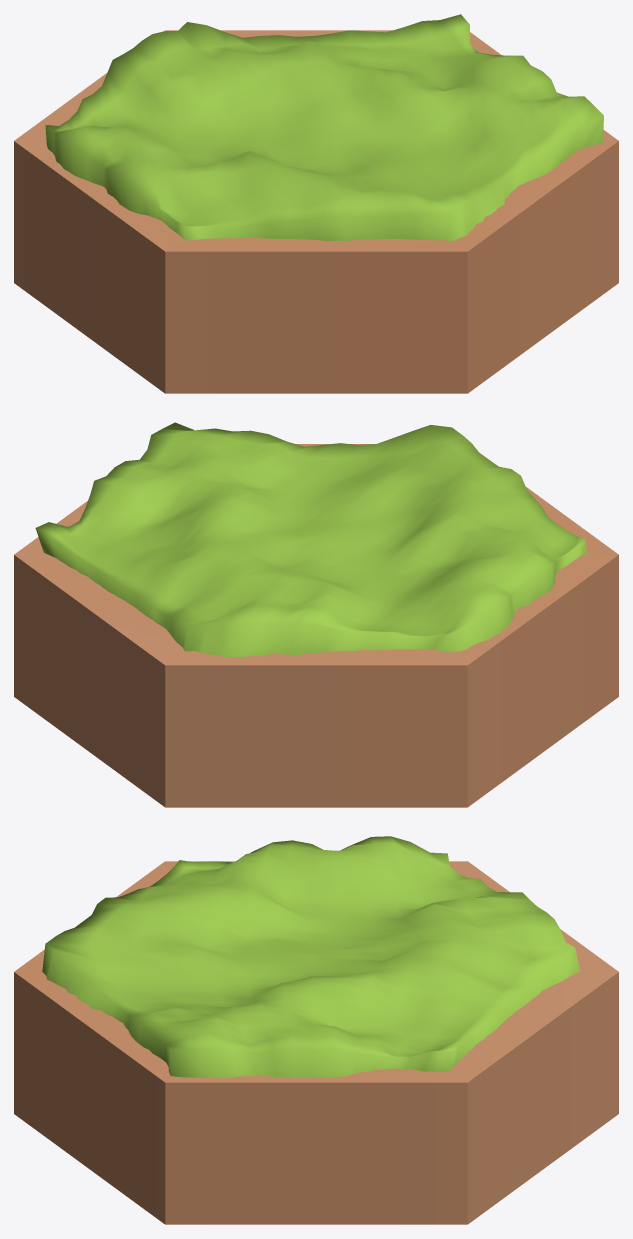
The model's file is Grass_Hex2.fbx.
The picture shows the model from 3 angles, top to bottom: view 1: azimuth 30°, elevation 25°; view 2: azimuth 150°, elevation 25°; view 3: azimuth 270°, elevation 25°; orthographic projection.
Visible parts, largest first — view 1: Ground_Hex2, Grass2; view 2: Ground_Hex2, Grass2; view 3: Ground_Hex2, Grass2.
Boxes of the visible parts, x1,y1,x2,y2 form: Ground_Hex2: (14, 30, 618, 393); Grass2: (45, 14, 603, 241); Ground_Hex2: (14, 444, 618, 807); Grass2: (35, 422, 586, 656); Ground_Hex2: (14, 861, 618, 1224); Grass2: (42, 836, 580, 1078).
Size of the model in its own units: 20.05 by 7.42 by 23.15.
Materials: 1 (1 with a texture image).
